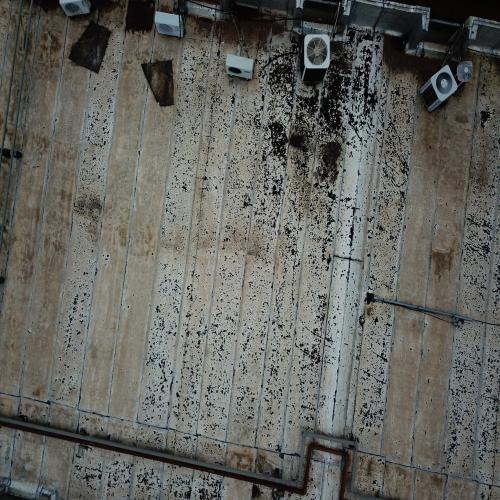conde: (420, 63, 460, 115), (301, 33, 333, 89), (153, 10, 189, 41), (224, 53, 257, 82), (58, 1, 95, 20), (455, 60, 475, 94)
